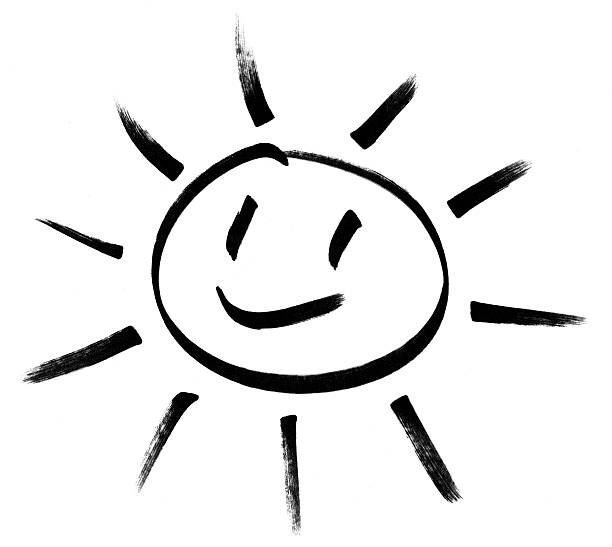feliz: (132, 137, 475, 394), (213, 192, 389, 340)
